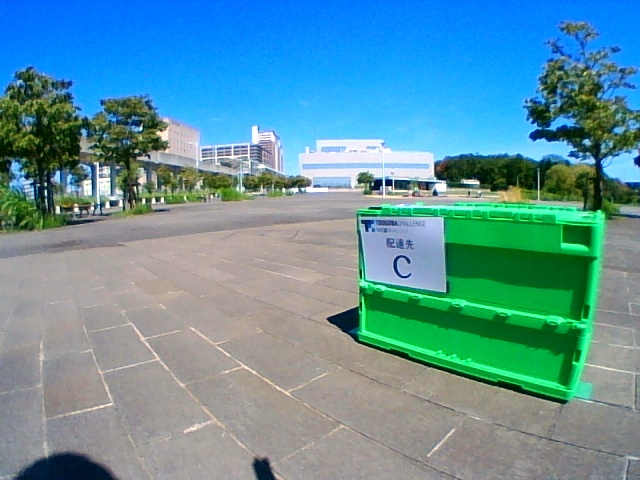green_box: (356, 201, 603, 401)
tag_c: (365, 217, 445, 282)
